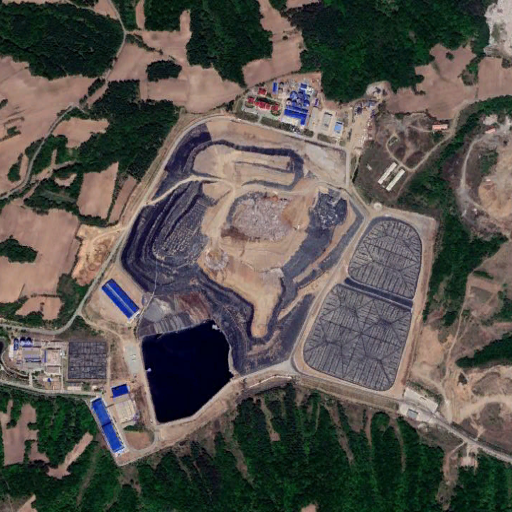lf: (124, 118, 363, 369)
